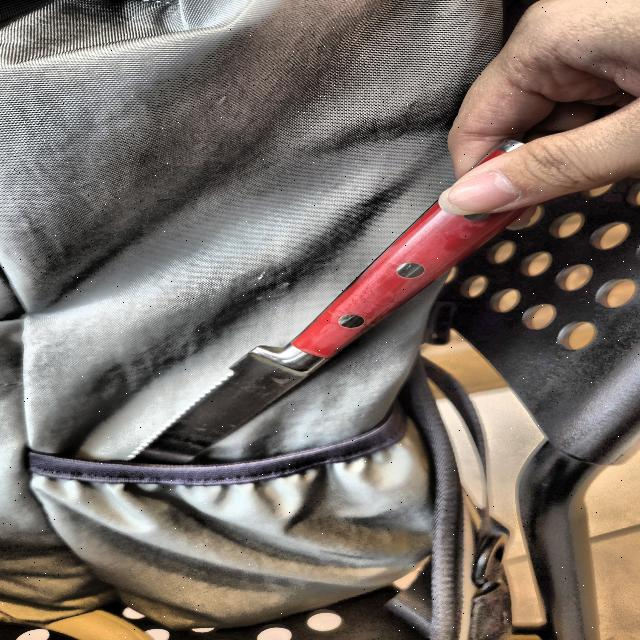knife: (119, 134, 542, 470)
